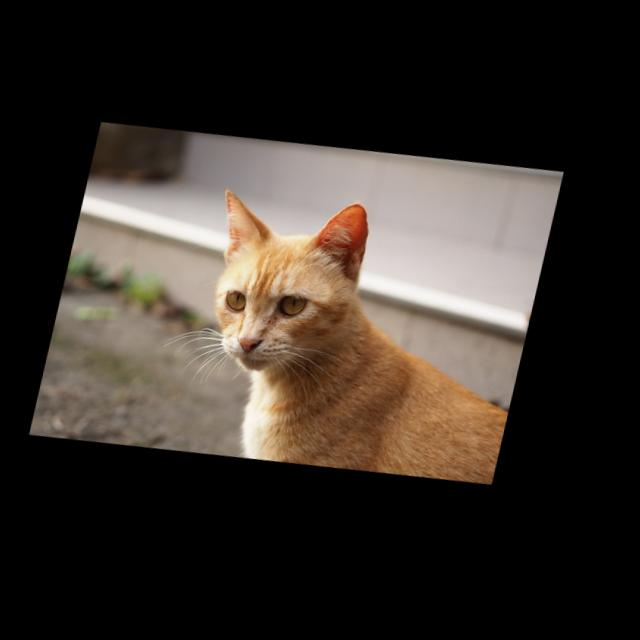animals: (171, 177, 559, 504)
